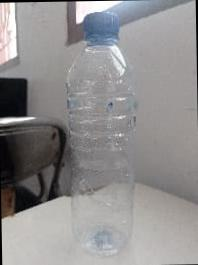Plastik: (67, 11, 135, 264)
